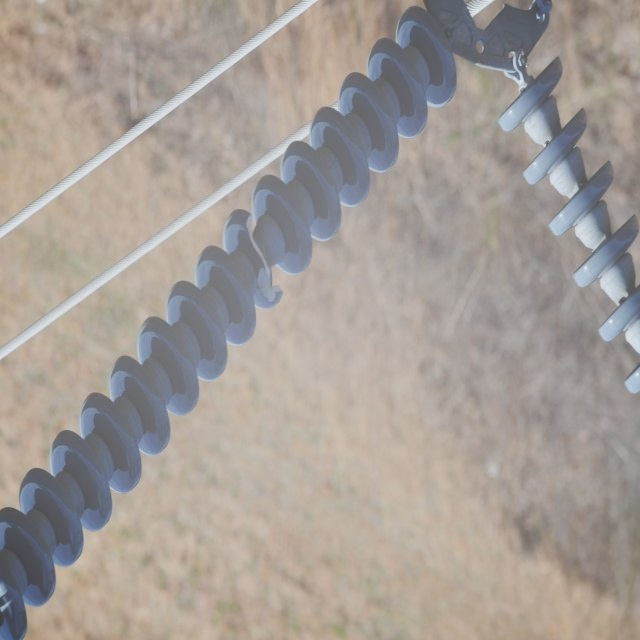broken: (244, 207, 283, 308)
insulator: (0, 7, 456, 638), (496, 55, 640, 398)
